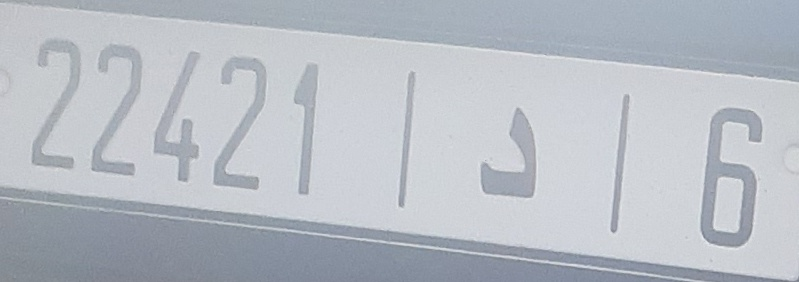1: (286, 59, 322, 199)
2: (211, 55, 269, 193), (28, 36, 84, 172), (89, 43, 145, 177)
4: (151, 47, 204, 185)
6: (695, 104, 765, 251)
d: (475, 102, 542, 205)
